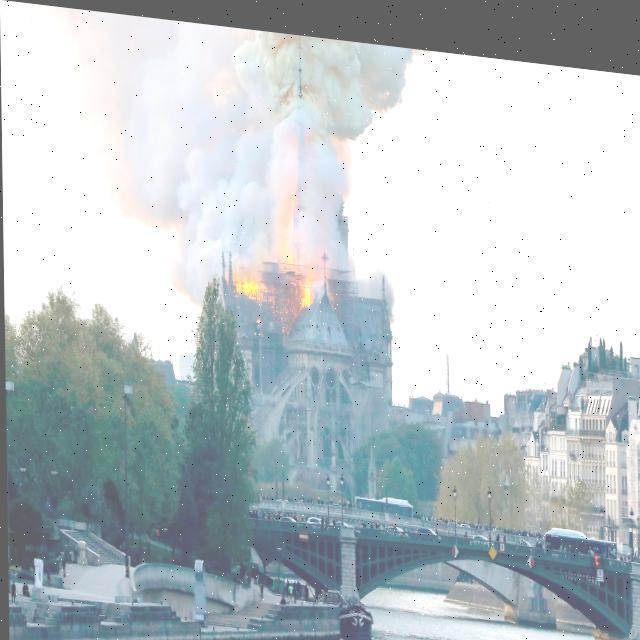Fire: (222, 225, 330, 318)
